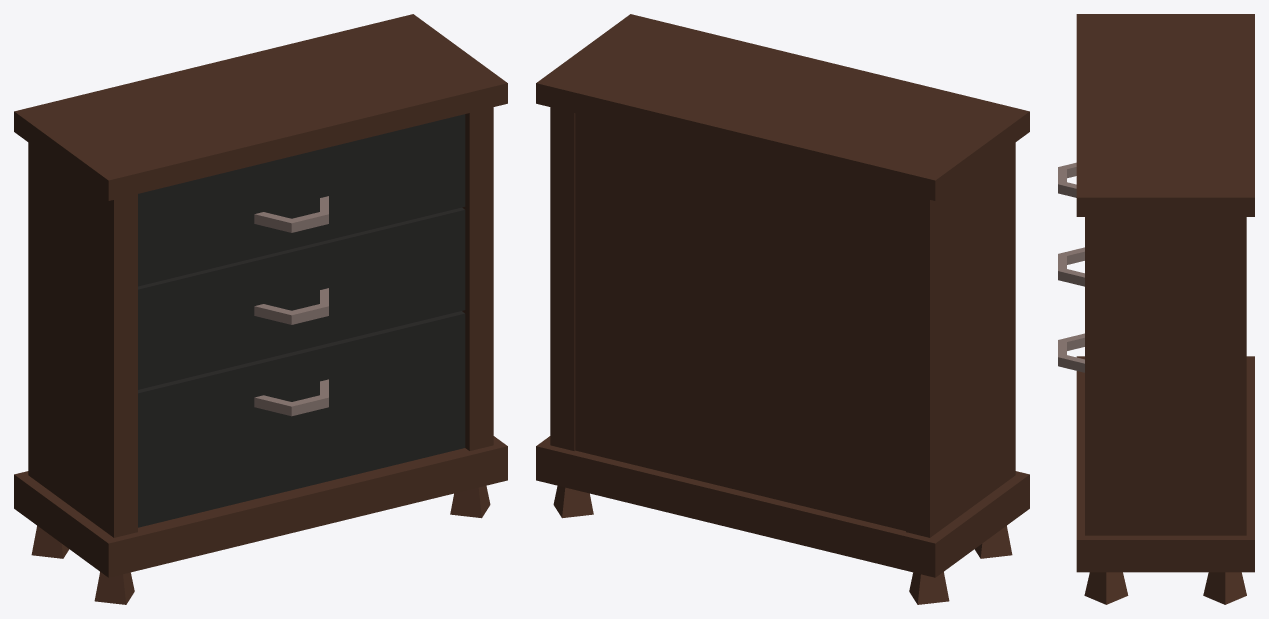
File: Drawer_3B.fbx
3 views of the same model, side by side, from view 1: azimuth 30°, elevation 25°; view 2: azimuth 150°, elevation 25°; view 3: azimuth 270°, elevation 25° (orthographic). The views are drawn at different scales.
Parts seen in each view (by area): view 1: polySurface1696; view 2: polySurface1696; view 3: polySurface1696.
Part boxes in pixels (x1=…): polySurface1696: x1=14, y1=14, x2=507, y2=604; polySurface1696: x1=536, y1=14, x2=1029, y2=604; polySurface1696: x1=1058, y1=14, x2=1254, y2=604.
Size of the model in its own units: 1.83 by 1.9 by 0.8282.
1 material, 1 textured.
